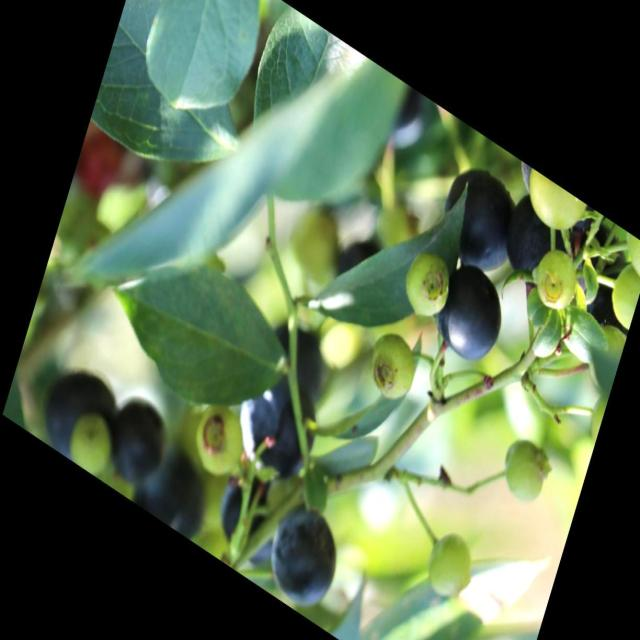blueberry: (224, 364, 324, 501), (430, 154, 527, 291), (258, 494, 346, 620), (426, 252, 512, 372), (96, 381, 174, 492), (493, 190, 571, 296)
blueberry-unripe: (417, 509, 484, 613), (513, 164, 590, 252), (186, 396, 252, 491), (364, 320, 426, 414), (526, 232, 589, 324), (396, 238, 456, 327), (494, 428, 554, 516), (602, 256, 640, 328)
